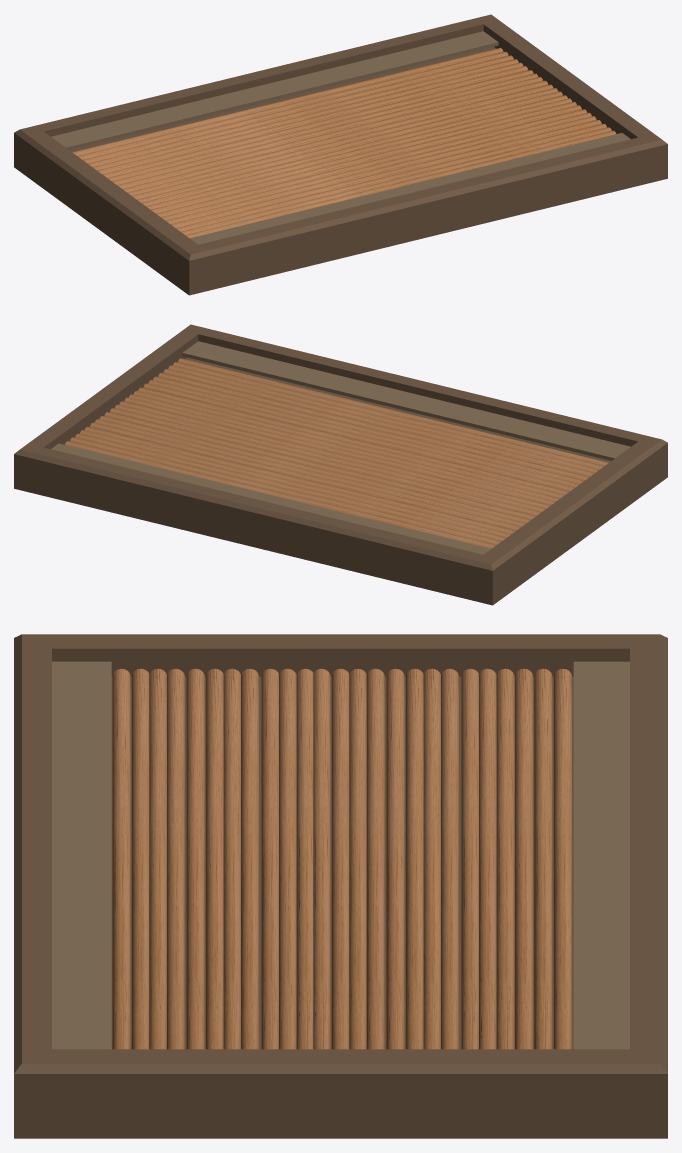
File: Dark_Tray.fbx
3 renders of one model, top to bottom at view 1: azimuth 30°, elevation 25°; view 2: azimuth 150°, elevation 25°; view 3: azimuth 270°, elevation 25°, orthographic. The views are drawn at different scales.
Visible parts, largest first — view 1: Dark_Tray, insidetray; view 2: Dark_Tray, insidetray; view 3: insidetray, Dark_Tray.
Part boxes in pixels (x1,y1,x2,y2): Dark_Tray: (14, 14, 667, 295); insidetray: (72, 48, 616, 238); Dark_Tray: (14, 324, 667, 605); insidetray: (65, 358, 608, 548); insidetray: (112, 668, 571, 1049); Dark_Tray: (14, 634, 667, 1138).
Bounding box in the file's own units: 16.69 × 1.28 × 10.58.
Materials: 3 (1 with a texture image).
